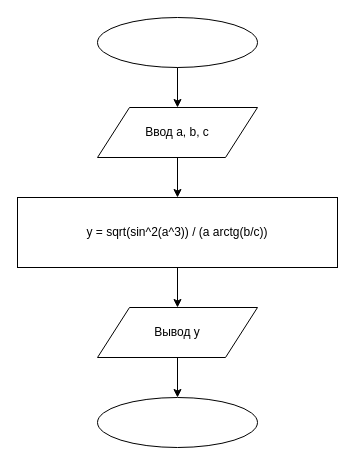
The diagram is 355 pixels wide and 465 high, and some of its shapes have lost their labels. Here are the shapes that lost their labels. From the top down, the box of each, then its label:
(96, 16, 258, 68): Начало
(96, 396, 258, 448): Конец
